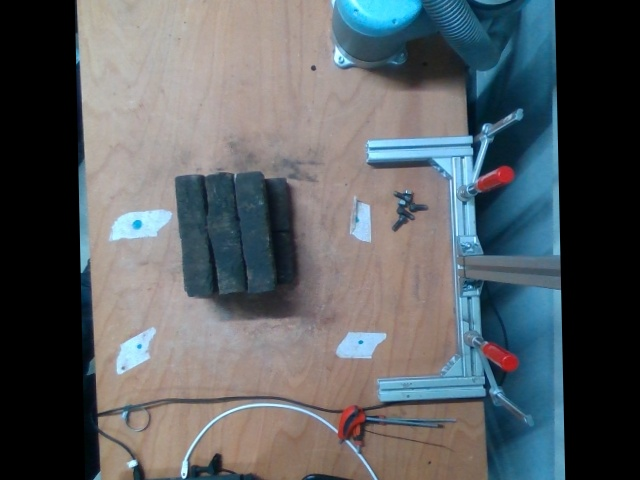brick-side: (203, 177, 246, 294), (234, 173, 276, 291), (176, 174, 208, 296)
